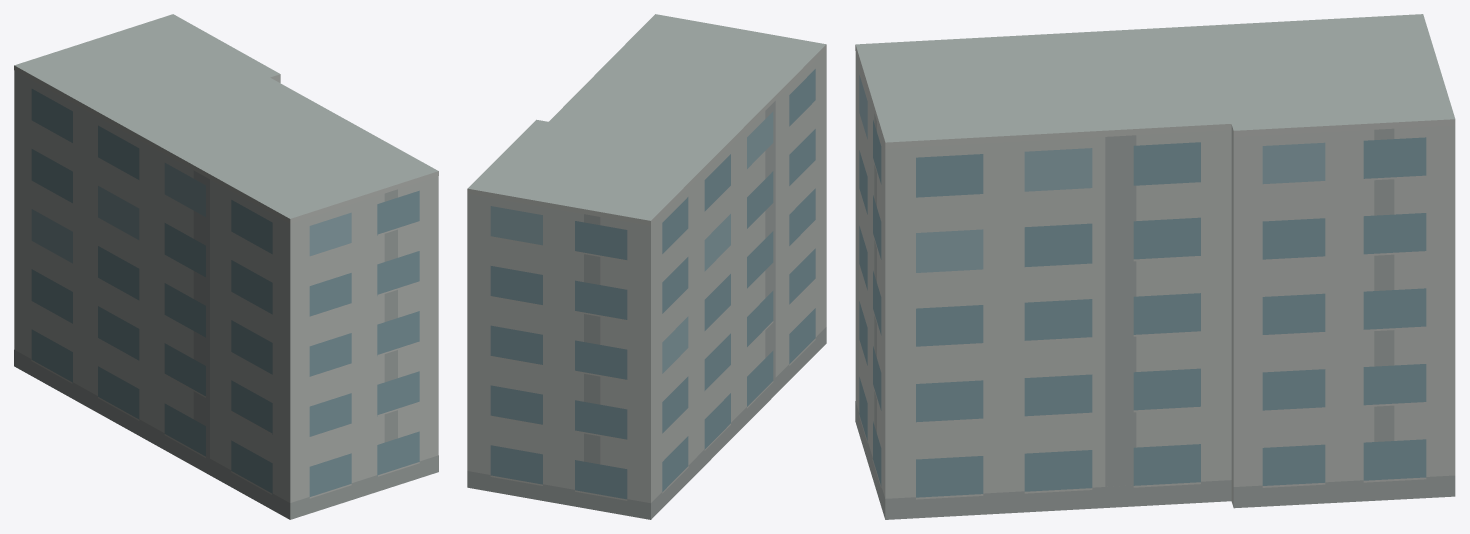
The model's file is survey-upis-32765596.glb.
3 views of the same model, side by side, from view 1: azimuth 30°, elevation 25°; view 2: azimuth 150°, elevation 25°; view 3: azimuth 270°, elevation 25° (orthographic). The views are drawn at different scales.
Parts seen in each view (by area): view 1: survey-upis-32765596.tmp; view 2: survey-upis-32765596.tmp; view 3: survey-upis-32765596.tmp.
Part boxes in pixels (left/top/right/bottom): survey-upis-32765596.tmp: left=14, top=14, right=438, bottom=519; survey-upis-32765596.tmp: left=467, top=14, right=826, bottom=519; survey-upis-32765596.tmp: left=855, top=14, right=1455, bottom=519.
Size of the model in its own units: 10.68 by 14.6 by 21.05.
